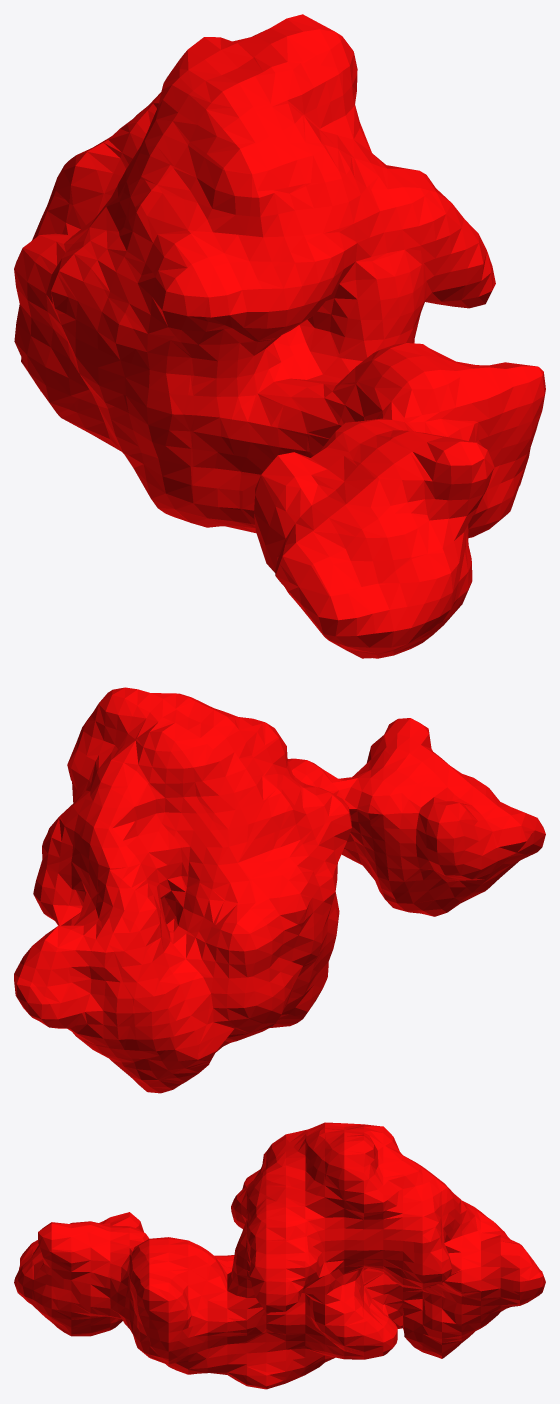
File: pnp_coarse.dae
3 views of the same model, one above another, from view 1: azimuth 30°, elevation 25°; view 2: azimuth 150°, elevation 25°; view 3: azimuth 270°, elevation 25° (orthographic). The views are drawn at different scales.
Visible parts, largest first — view 1: pnp; view 2: pnp; view 3: pnp.
Boxes of the visible parts, box(x1,y1,x2,y2) form: pnp: box(14, 14, 545, 658); pnp: box(14, 687, 545, 1093); pnp: box(14, 1122, 545, 1389).
Bounding box in the file's own units: 64.59 × 70.97 × 132.
